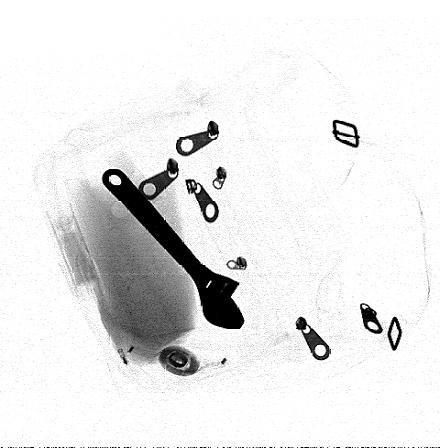Wrench: (100, 166, 247, 331)
